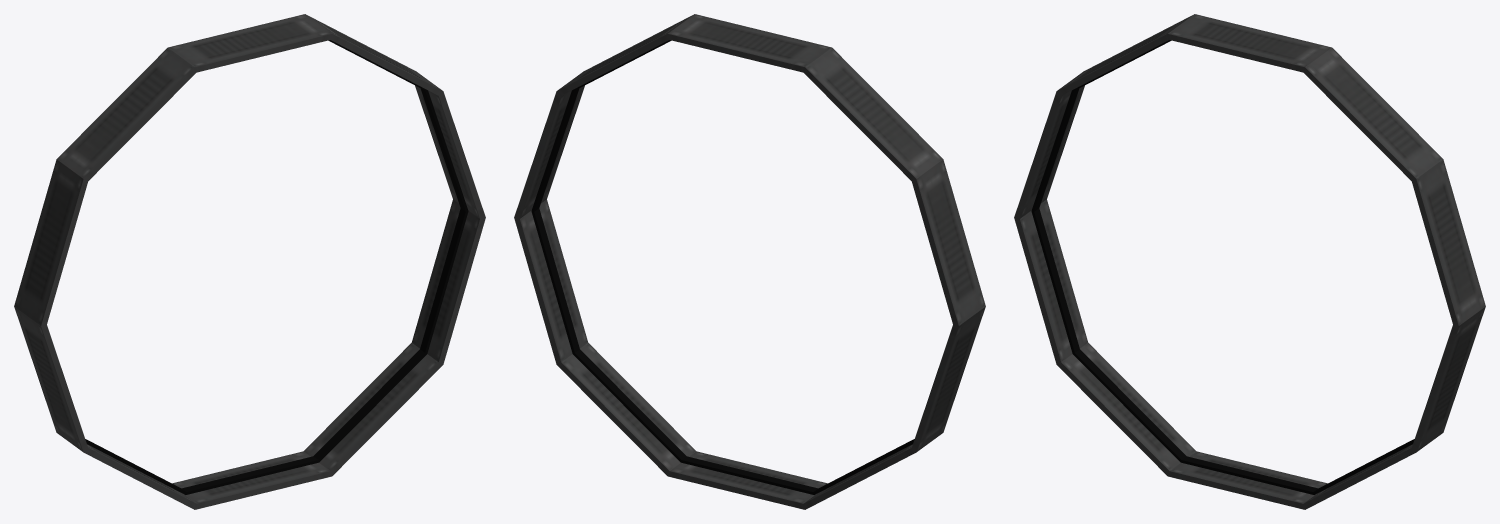
Rendered from Colony_Ring_Art.glb.
The picture shows the model from 3 angles, left to right: view 1: azimuth 30°, elevation 25°; view 2: azimuth 150°, elevation 25°; view 3: azimuth 330°, elevation 25°; orthographic projection.
Visible parts, largest first — view 1: Colony_Ring_Art; view 2: Colony_Ring_Art; view 3: Colony_Ring_Art.
Part boxes in pixels (x1,y1,x2,y2): Colony_Ring_Art: (14,14,485,509); Colony_Ring_Art: (514,14,985,509); Colony_Ring_Art: (1014,14,1485,509).
Bounding box in the file's own units: 7.13 × 6.78 × 0.7511.
2 materials, 2 textured.
